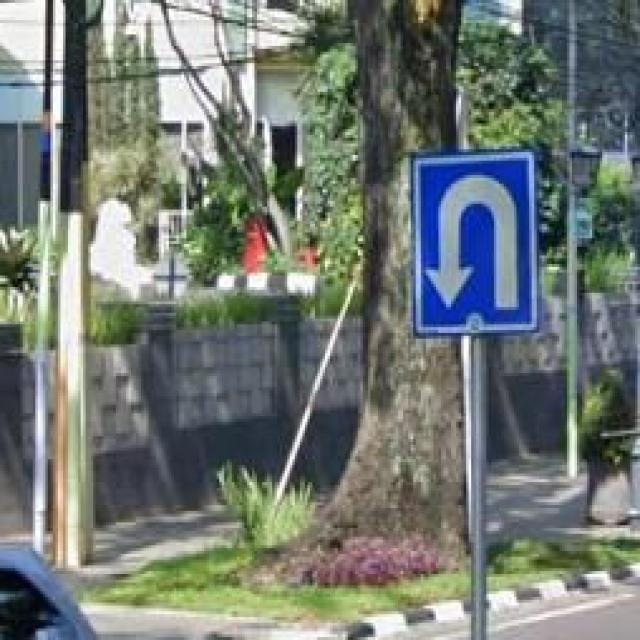U-turn: (412, 153, 536, 331)
